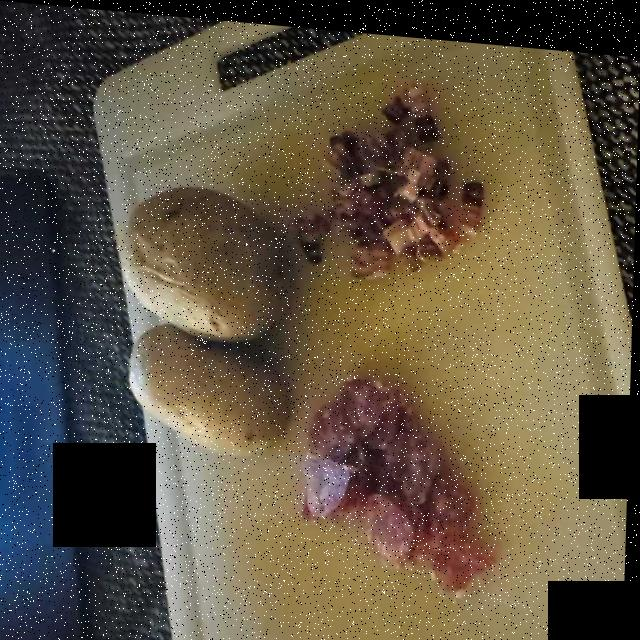bacon-raw: (299, 47, 485, 283)
potatoes-steamed: (125, 180, 287, 470)
salami: (304, 375, 496, 582)
